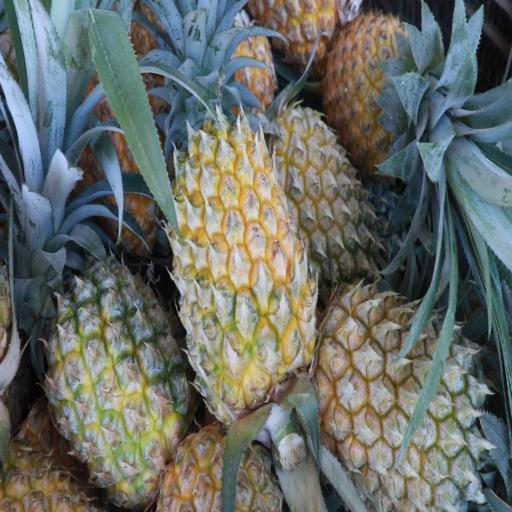Pineapple - v8 v1: (168, 113, 316, 409), (46, 266, 186, 494), (328, 12, 428, 160)
